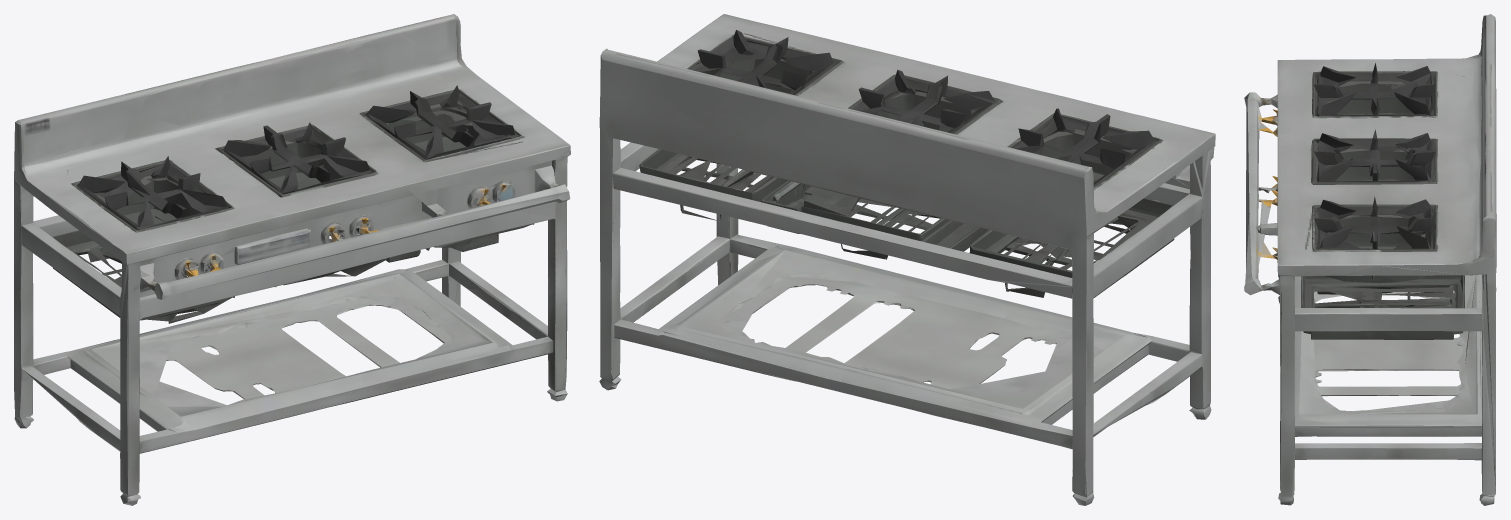
Rendered from range-gas-3.glb.
3 renders of one model, left to right at view 1: azimuth 30°, elevation 25°; view 2: azimuth 150°, elevation 25°; view 3: azimuth 270°, elevation 25°, orthographic. The views are drawn at different scales.
Size of the model in its own units: 1.22 by 0.8 by 0.6334.
1 material, 1 textured.
